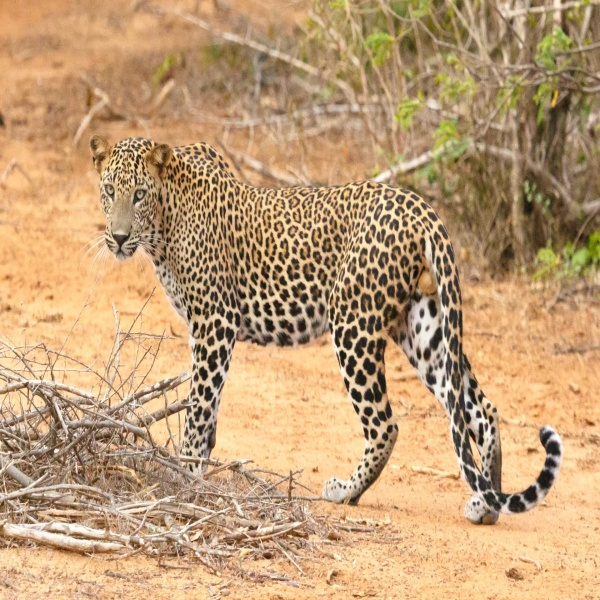Leopard: (86, 129, 567, 537)
